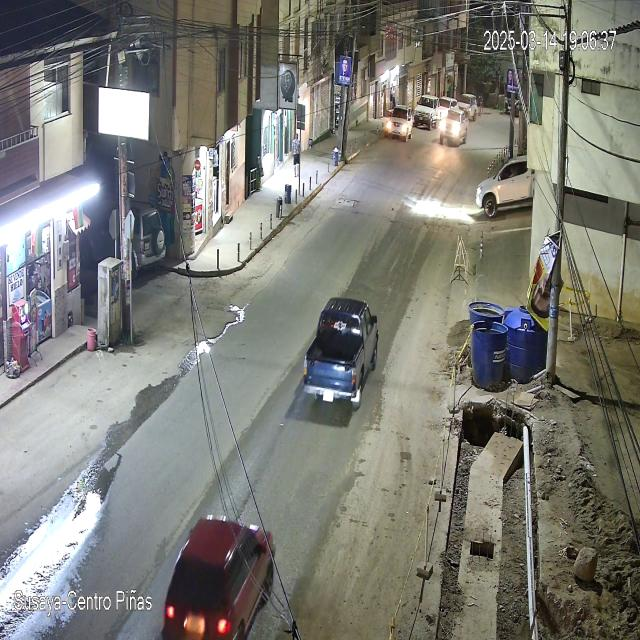CMT: (304, 298, 378, 409)
SED: (151, 490, 276, 640)
